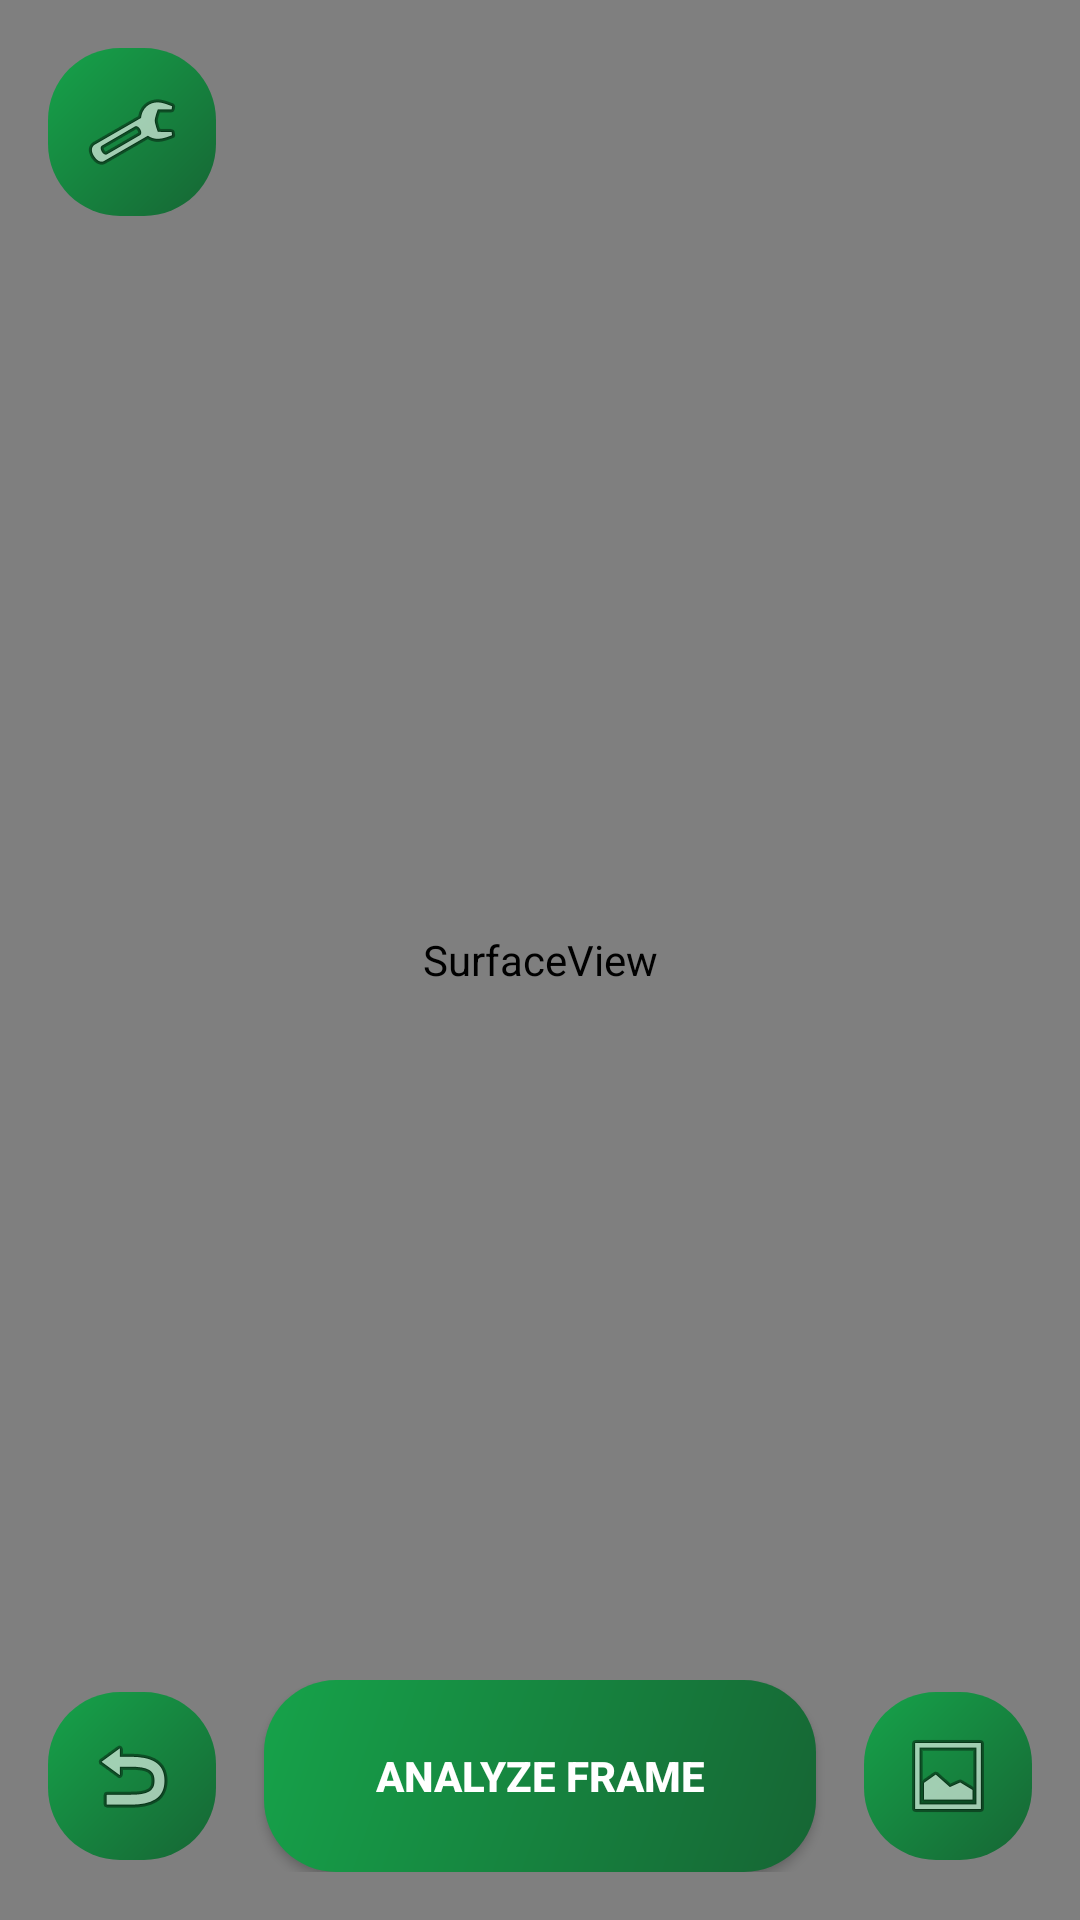

Point at icon controls on the screen. Image size 1080px×1920px, points as (x,y).
Back: (132,1776)
Open Gallery: (948,1776)
Settings: (132,132)
